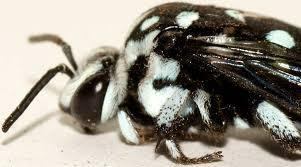Thyreus: (16, 1, 301, 167)
